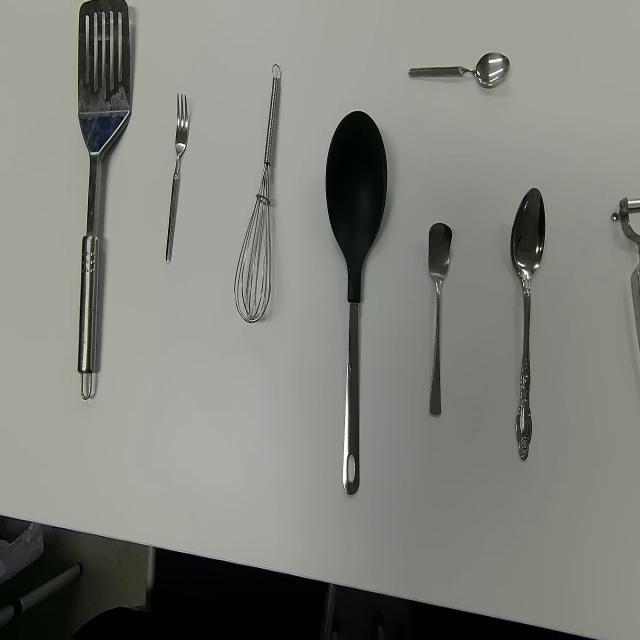Desert-Spoon: (510, 187, 546, 462)
Dinner-Fork: (164, 93, 190, 265)
Peeler: (610, 196, 640, 358)
Serving-Spoon: (325, 109, 388, 498), (76, 0, 132, 402)
Tea-Spoon: (427, 221, 453, 418), (407, 50, 511, 90)
Whisk: (233, 62, 282, 323)
